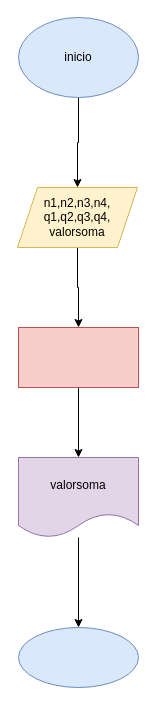
Some shapes in this 156 by 705 pixel diagram are drawn without their labels. Each missing label, with the centre of its shape:
fim: the point at 78,657
q1<-n1*n1, q2<-n2*n2, q3<-n3*n3, q4<-n4*n4 valorsoma<-q1+q2+q3+q4: the point at 78,357
